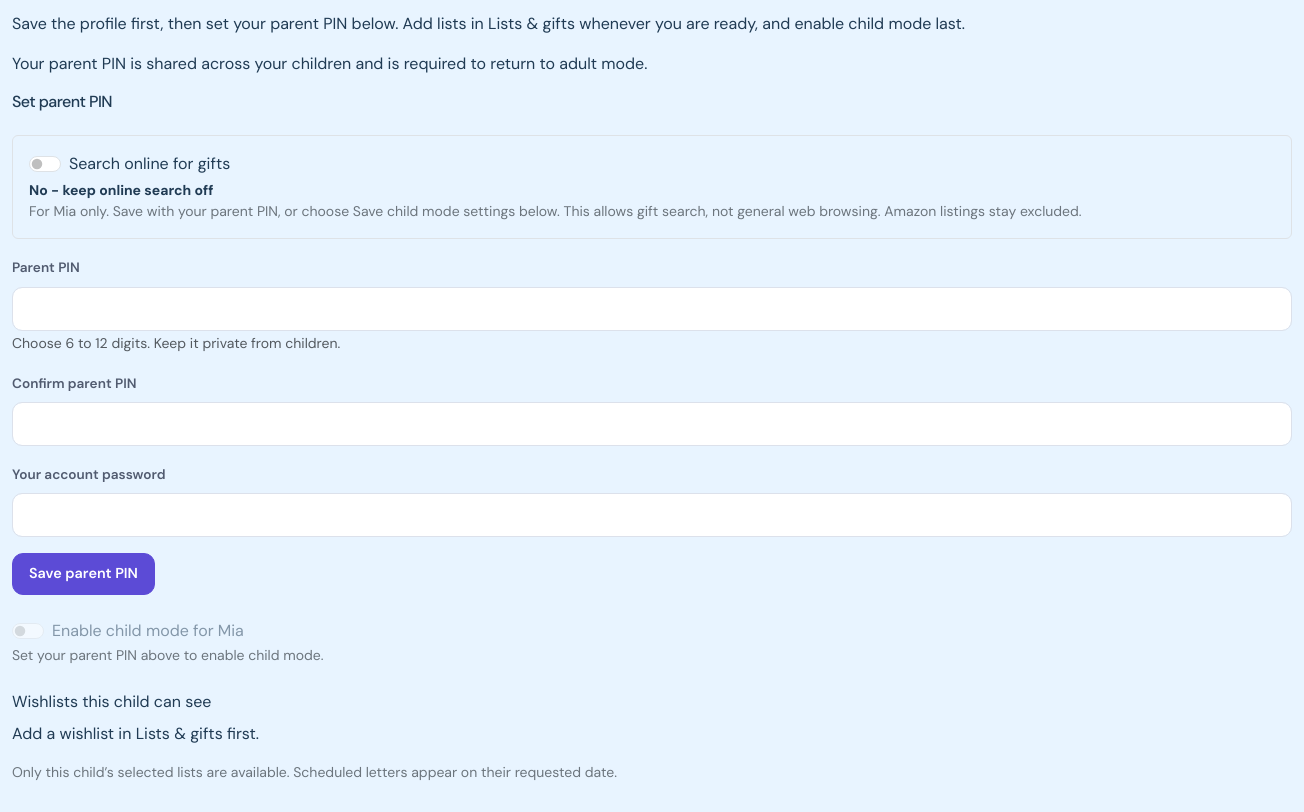
Test: allows saving a PIN inline before any lists or child account are enabled
Type "123456" into the password field labelled "Parent PIN" at {"x": 652, "y": 309}, box [12,287,1292,331]
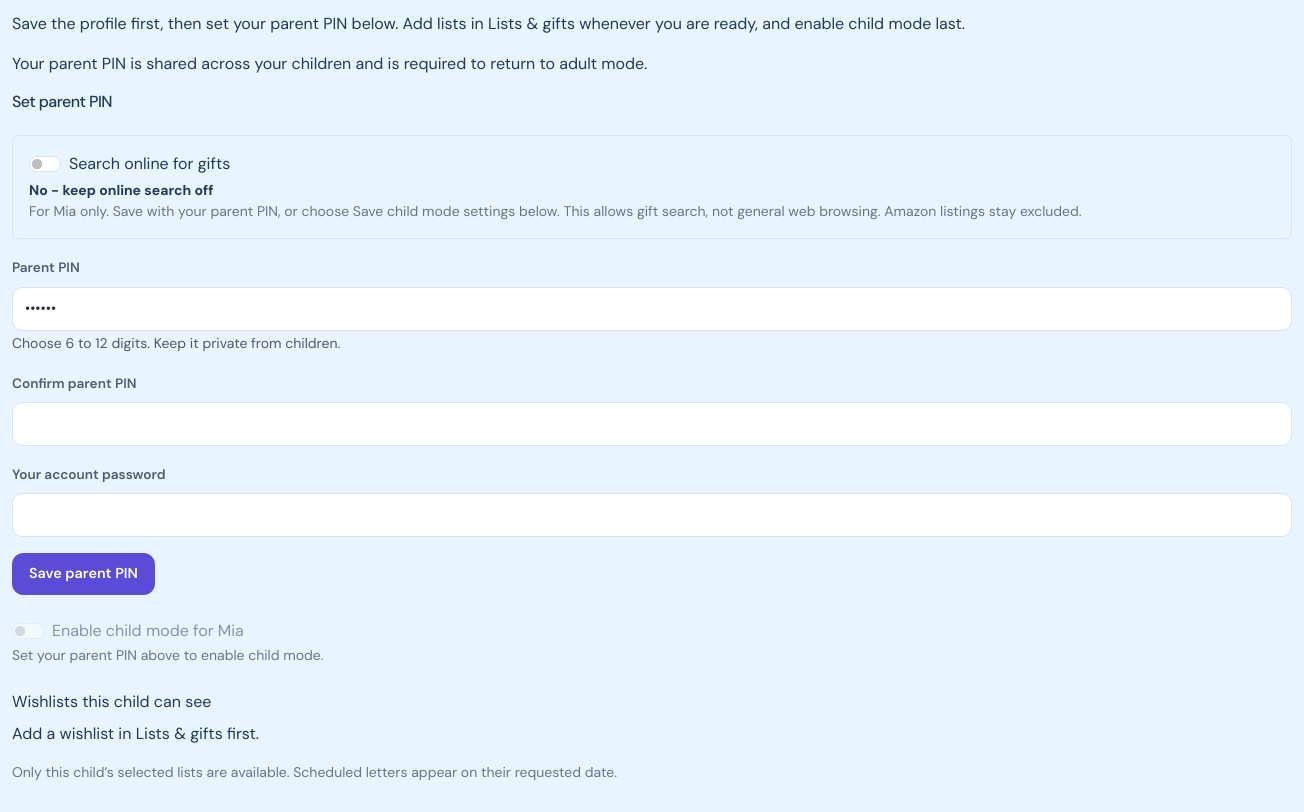
Type "123456" into the password field labelled "Confirm parent PIN" at {"x": 652, "y": 424}, box [12,402,1292,446]
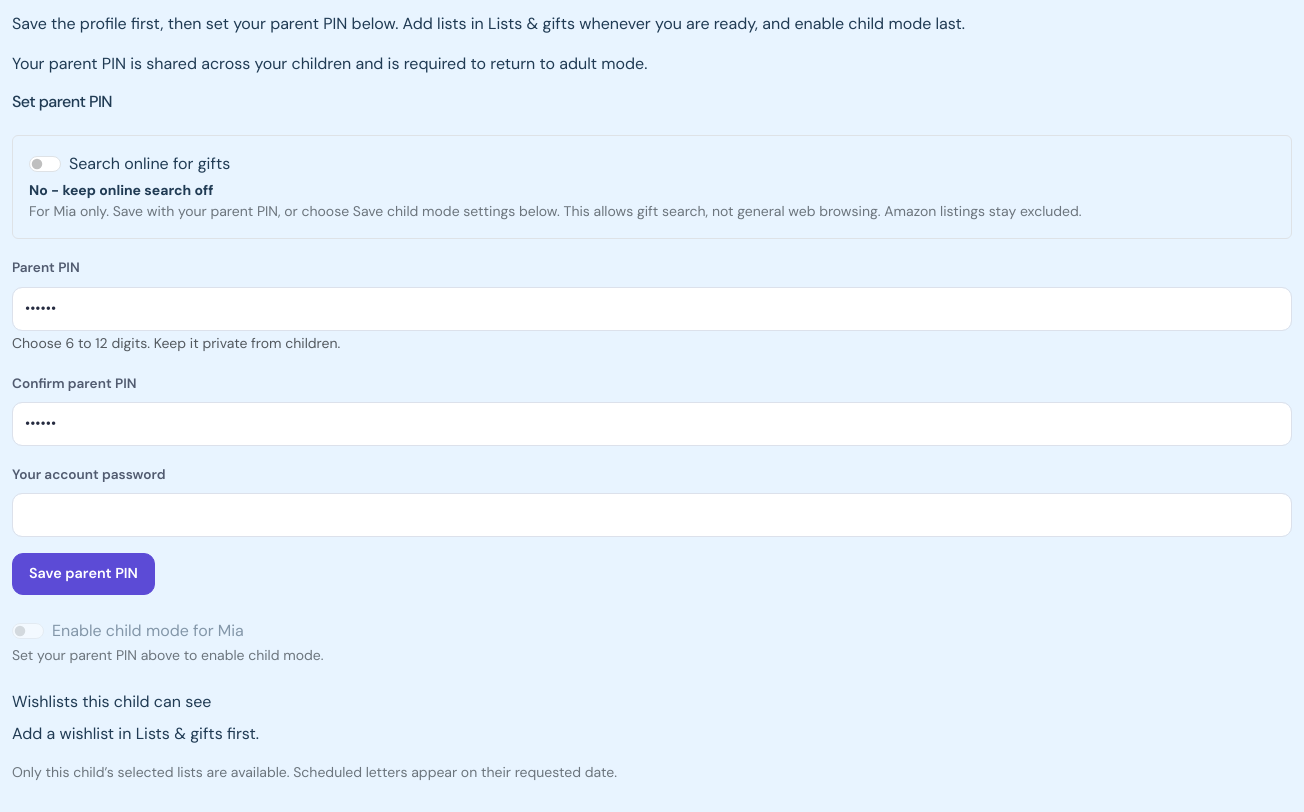
Type "parent-password" into the password field labelled "Your account password" at {"x": 652, "y": 515}, box [12,493,1292,537]
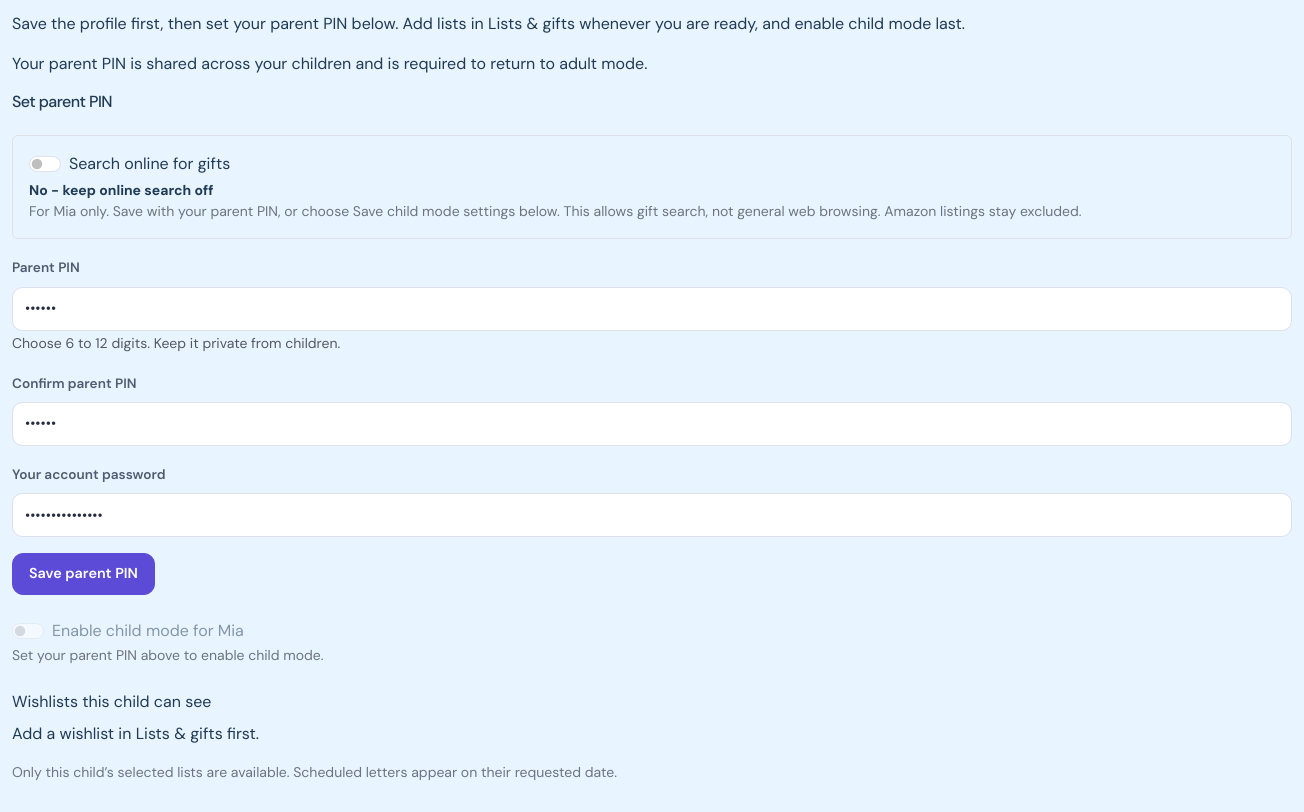
Click the button "Save parent PIN" at {"x": 84, "y": 574}, box [12,553,155,595]
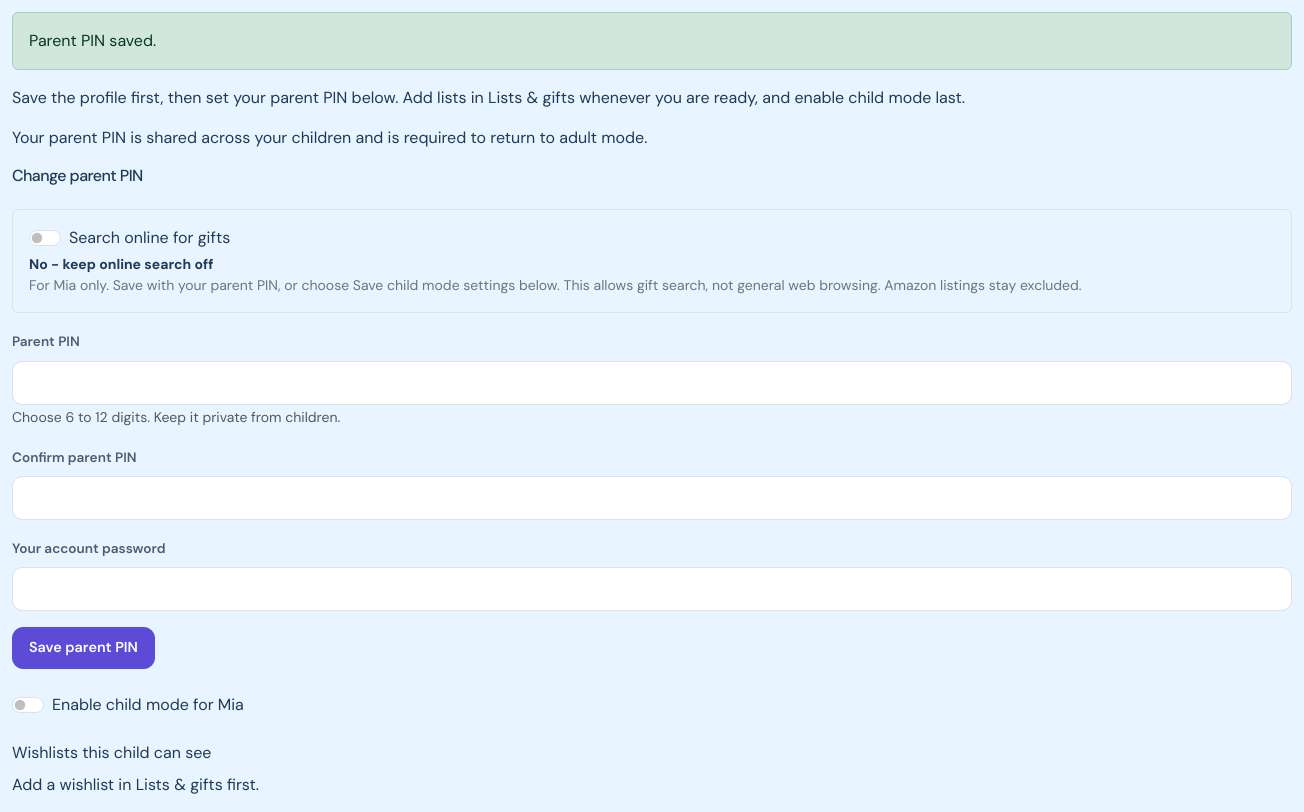
expect the text "Parent PIN saved." is shown: met, box [12,12,1292,70]
